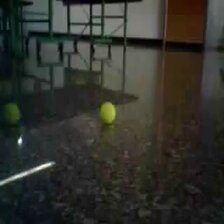tennis: (99, 100, 118, 126), (5, 102, 20, 124)
